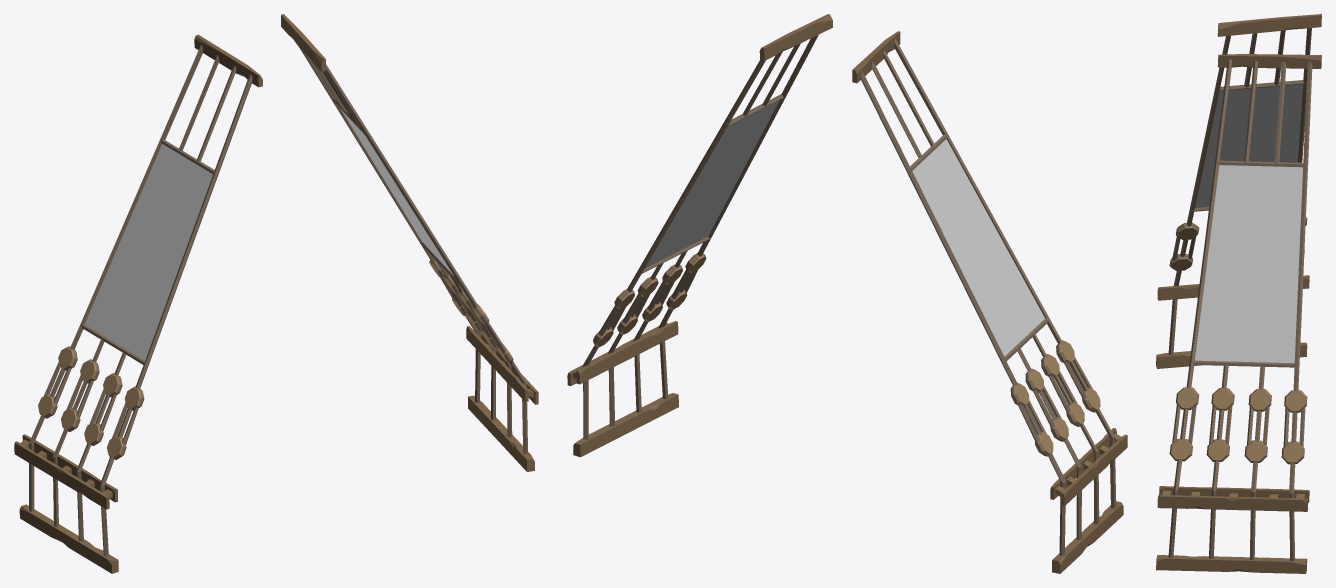
Rendered from SM_Veh_Ship_L_01_Ratlines_Front_02.fbx.
The picture shows the model from 3 angles, left to right: view 1: azimuth 30°, elevation 25°; view 2: azimuth 150°, elevation 25°; view 3: azimuth 270°, elevation 25°; orthographic projection. The views are drawn at different scales.
Parts seen in each view (by area): view 1: SM_Veh_Ship_L_01_Ratlines_Front_02; view 2: SM_Veh_Ship_L_01_Ratlines_Front_02; view 3: SM_Veh_Ship_L_01_Ratlines_Front_02.
Boxes of the visible parts, box(x1,y1,x2,y2) form: SM_Veh_Ship_L_01_Ratlines_Front_02: box(14, 14, 538, 573); SM_Veh_Ship_L_01_Ratlines_Front_02: box(567, 14, 1127, 573); SM_Veh_Ship_L_01_Ratlines_Front_02: box(1156, 14, 1321, 573).
Bounding box in the file's own units: 1023 × 917 × 319.
